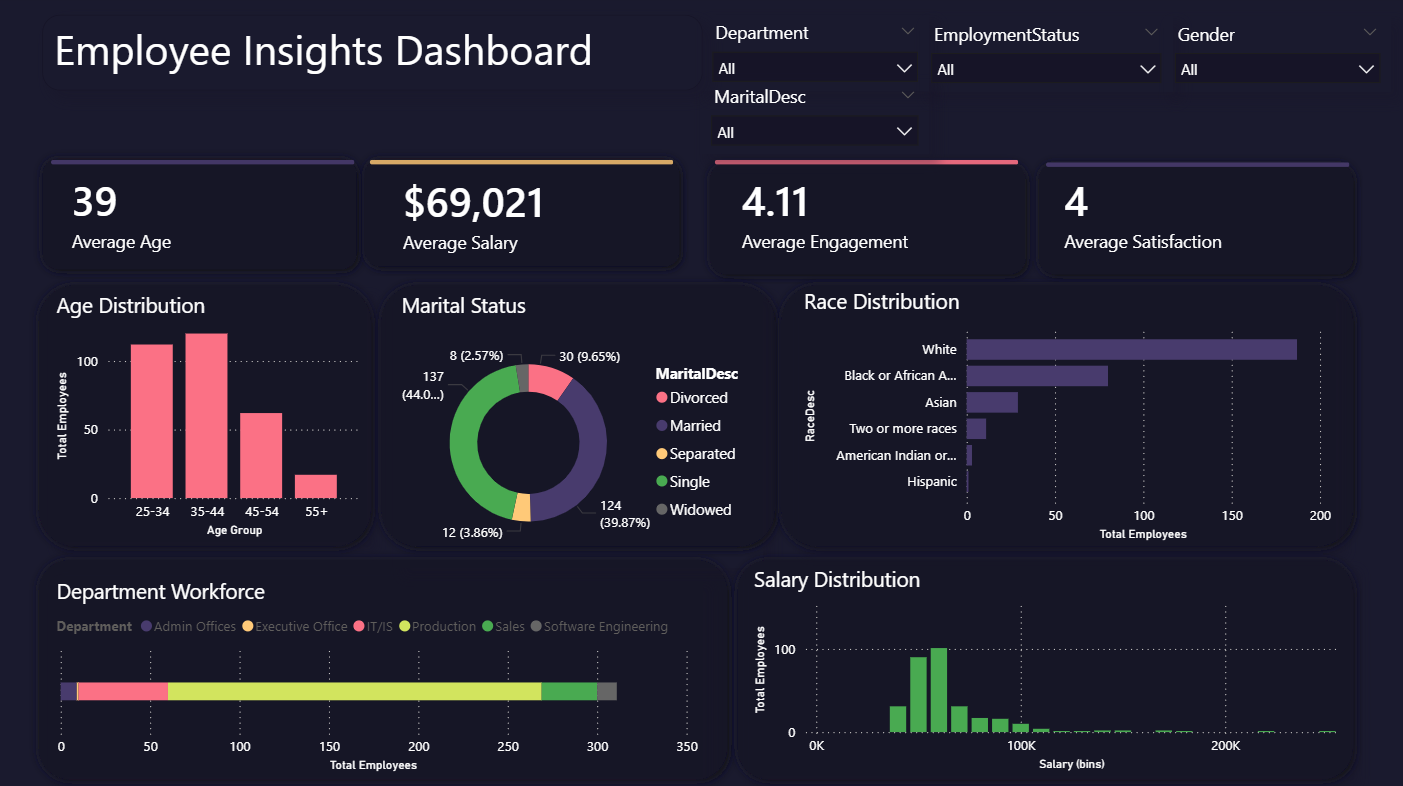

This screenshot's page, from the dashboard's own definition file:
{"tool":"powerbi","page":{"name":"Employee Insights","canvas":[1280,720],"ordinal":1},"visuals":[{"type":"shape","box":[29.1,502.3,643,217.4],"z":0},{"type":"textbox","title":"Employee Insights Dashboard","box":[41.9,17.4,598.8,68.6],"z":1000},{"type":"shape","box":[29.1,253.5,319.8,255.8],"z":2000},{"type":"shape","box":[32.6,138.4,303.5,118.6],"z":3000},{"type":"shape","box":[325.6,138.4,303.5,116.3],"z":4000},{"type":"shape","box":[638.4,143,304.7,118.6],"z":5000},{"type":"shape","box":[937.2,143,303.5,118.6],"z":6000},{"type":"cardVisual","fields":{"Data":["Measure.Average Age"]},"box":[39.5,138.4,300,116.3],"z":7000},{"type":"cardVisual","fields":{"Data":["Measure.Average Salary"]},"box":[340.7,139.5,300,115.1],"z":8000},{"type":"cardVisual","fields":{"Data":["Measure.Average Engagement"]},"box":[647.7,138.4,300,116.3],"z":9000},{"type":"cardVisual","fields":{"Data":["Measure.Average Satisfaction"]},"box":[940.7,138.4,300,115.1],"z":10000},{"type":"slicer","fields":{"Values":["HR_Dataset.Department"]},"box":[639.5,17.4,207,68.6],"z":11000},{"type":"slicer","fields":{"Values":["HR_Dataset.EmploymentStatus"]},"box":[838.1,18,229.3,68.4],"z":12000},{"type":"slicer","fields":{"Values":["HR_Dataset.Gender"]},"box":[1059.1,18,206.5,68.4],"z":13000},{"type":"shape","box":[340.7,253.5,375.6,255.8],"z":14000},{"type":"donutChart","title":"Marital Status","fields":{"Y":["Measure.Total Employees"],"Series":["HR_Dataset.MaritalDesc"]},"box":[362.8,267.4,332.6,251.2],"z":15000},{"type":"shape","box":[703.5,253.5,537.2,255.8],"z":16000},{"type":"shape","box":[664,502.3,576.7,217.4],"z":17000},{"type":"shape","box":[50,130.2,275.6,40.7],"z":18000},{"type":"shape","box":[339.5,130.2,275.6,40.7],"z":19000},{"type":"shape","box":[652.3,130.2,275.6,40.7],"z":20000},{"type":"shape","box":[952.3,132.6,275.6,40.7],"z":21000},{"type":"clusteredColumnChart","title":"Age Distribution","fields":{"Category":["HR_Dataset.Age Group"],"Y":["Measure.Total Employees"]},"box":[50,267.4,286,227.9],"z":22000},{"type":"slicer","fields":{"Values":["HR_Dataset.MaritalDesc"]},"box":[638.4,74.4,208.1,68.6],"z":23000},{"type":"clusteredBarChart","title":"Race Distribution","fields":{"Category":["HR_Dataset.RaceDesc"],"Y":["Measure.Total Employees"]},"box":[727.9,264,488.4,234.9],"z":24000},{"type":"clusteredColumnChart","title":"Salary Distribution","fields":{"Category":["HR_Dataset.Salary (bins)"],"Y":["Measure.Total Employees"]},"box":[682.6,516.3,545.4,191.9],"z":25000},{"type":"barChart","title":"Department Workforce","fields":{"Y":["Measure.Total Employees"],"Series":["HR_Dataset.Department"]},"box":[50,527.9,591.9,181.4],"z":26000}]}

Visuals, with their boxes in screenshot pixels (x1, y1, x2, y2), scaled from the page's 1280x720 canvas onto the 1403x786 screenshot:
shape: x1=32, y1=548, x2=737, y2=785
"Employee Insights Dashboard" textbox: x1=46, y1=19, x2=702, y2=94
shape: x1=32, y1=277, x2=382, y2=556
shape: x1=36, y1=151, x2=368, y2=281
shape: x1=357, y1=151, x2=690, y2=278
shape: x1=700, y1=156, x2=1034, y2=286
shape: x1=1027, y1=156, x2=1360, y2=286
cardVisual - Measure.Average Age: x1=43, y1=151, x2=372, y2=278
cardVisual - Measure.Average Salary: x1=373, y1=152, x2=702, y2=278
cardVisual - Measure.Average Engagement: x1=710, y1=151, x2=1039, y2=278
cardVisual - Measure.Average Satisfaction: x1=1031, y1=151, x2=1360, y2=277
slicer - HR_Dataset.Department: x1=701, y1=19, x2=928, y2=94
slicer - HR_Dataset.EmploymentStatus: x1=919, y1=20, x2=1170, y2=94
slicer - HR_Dataset.Gender: x1=1161, y1=20, x2=1387, y2=94
shape: x1=373, y1=277, x2=785, y2=556
"Marital Status" donutChart: x1=398, y1=292, x2=762, y2=566
shape: x1=771, y1=277, x2=1360, y2=556
shape: x1=728, y1=548, x2=1360, y2=785
shape: x1=55, y1=142, x2=357, y2=187
shape: x1=372, y1=142, x2=674, y2=187
shape: x1=715, y1=142, x2=1017, y2=187
shape: x1=1044, y1=145, x2=1346, y2=189
"Age Distribution" clusteredColumnChart: x1=55, y1=292, x2=368, y2=541
slicer - HR_Dataset.MaritalDesc: x1=700, y1=81, x2=928, y2=156
"Race Distribution" clusteredBarChart: x1=798, y1=288, x2=1333, y2=545
"Salary Distribution" clusteredColumnChart: x1=748, y1=564, x2=1346, y2=773
"Department Workforce" barChart: x1=55, y1=576, x2=704, y2=774
